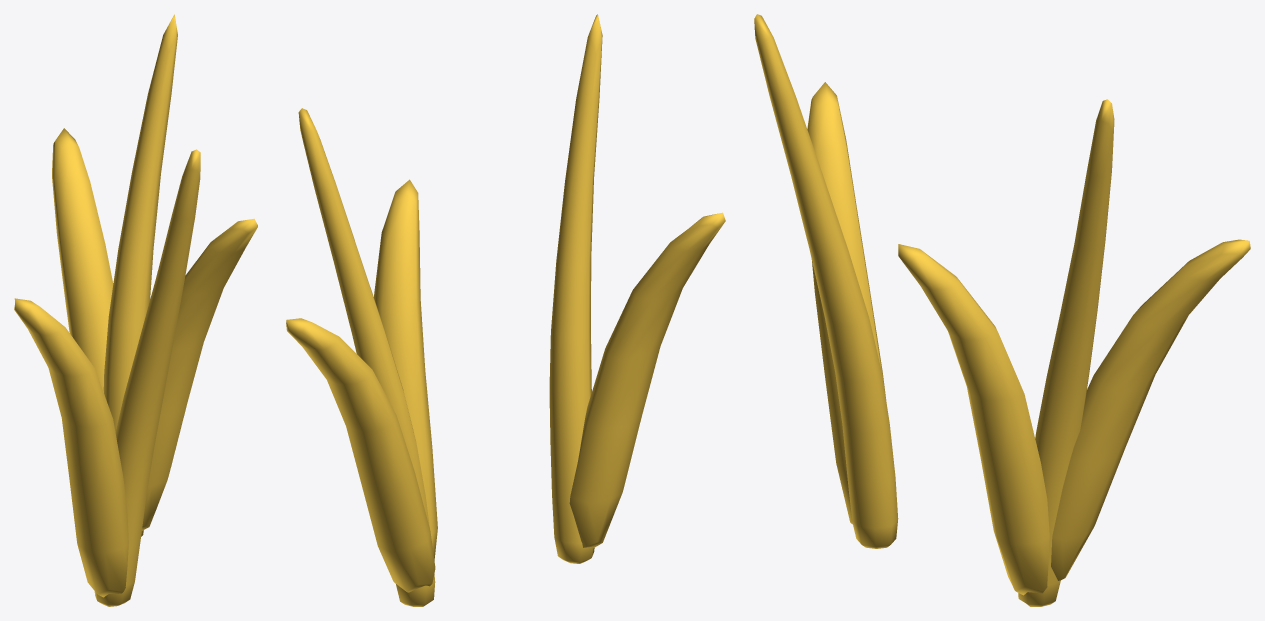
The model's file is wheat stage 1.glb.
3 views of the same model, side by side, from view 1: azimuth 30°, elevation 25°; view 2: azimuth 150°, elevation 25°; view 3: azimuth 270°, elevation 25° (orthographic). The views are drawn at different scales.
Parts seen in each view (by area): view 1: WheatStage1; view 2: WheatStage1; view 3: WheatStage1.
Boxes of the visible parts, box(x1,y1,x2,y2) form: WheatStage1: box(14, 14, 257, 606); WheatStage1: box(286, 14, 725, 606); WheatStage1: box(754, 14, 1250, 606).
Bounding box in the file's own units: 0.1746 × 0.2878 × 0.2313.
1 material, 1 textured.
